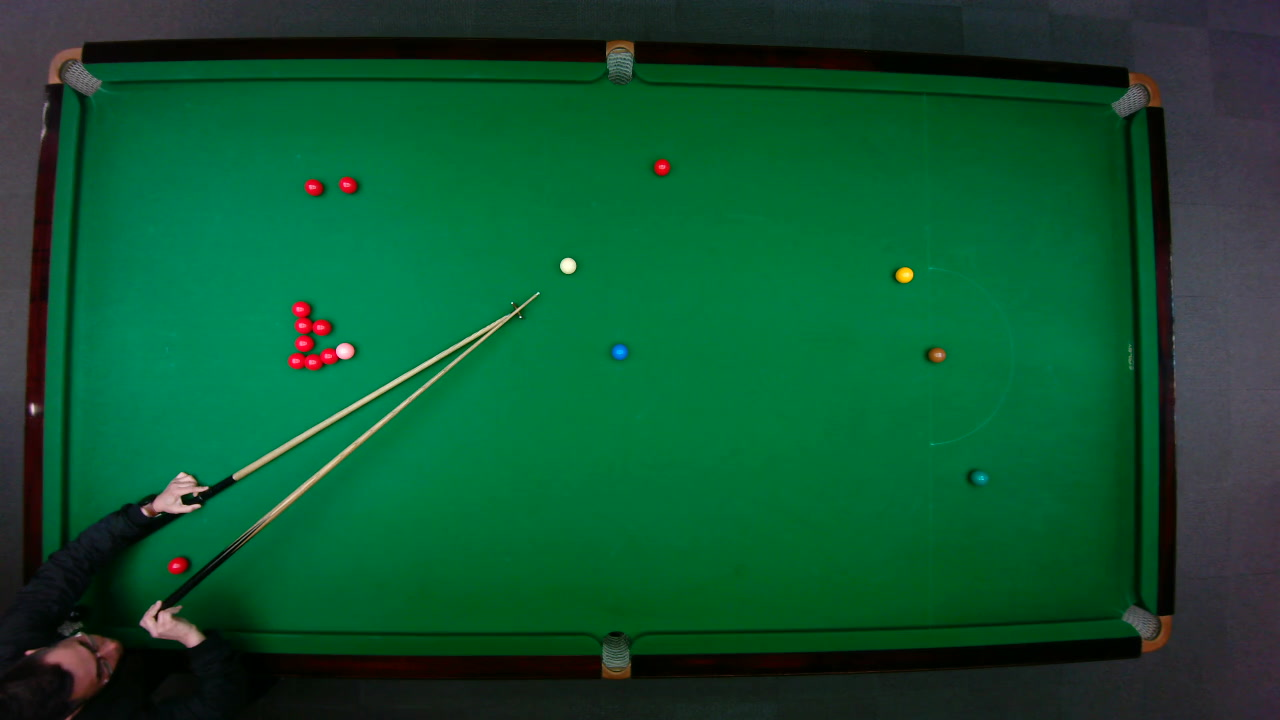bag: (46, 46, 101, 96), (1119, 603, 1171, 652), (1108, 71, 1161, 118), (600, 629, 629, 680), (605, 38, 633, 85)
blue: (610, 343, 628, 360)
brown: (926, 346, 946, 362)
cue: (133, 284, 545, 622)
green: (969, 468, 989, 486)
pink: (334, 341, 355, 360)
red: (166, 555, 188, 574), (302, 177, 324, 196), (302, 352, 324, 370), (337, 175, 358, 193), (310, 317, 331, 335), (290, 299, 311, 317), (319, 346, 338, 365), (652, 157, 671, 176), (293, 334, 313, 352), (286, 351, 305, 369), (292, 317, 312, 334)
white: (557, 256, 577, 274)
yellow: (894, 265, 914, 283)
zone: (927, 265, 1013, 446)
